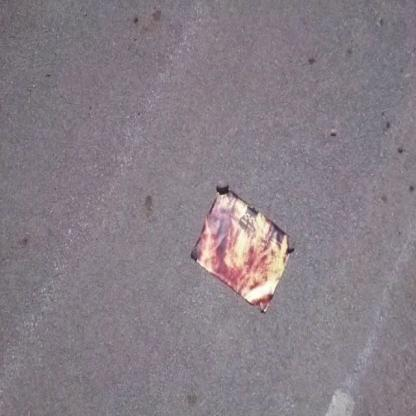fire-poster: (189, 180, 295, 316)
